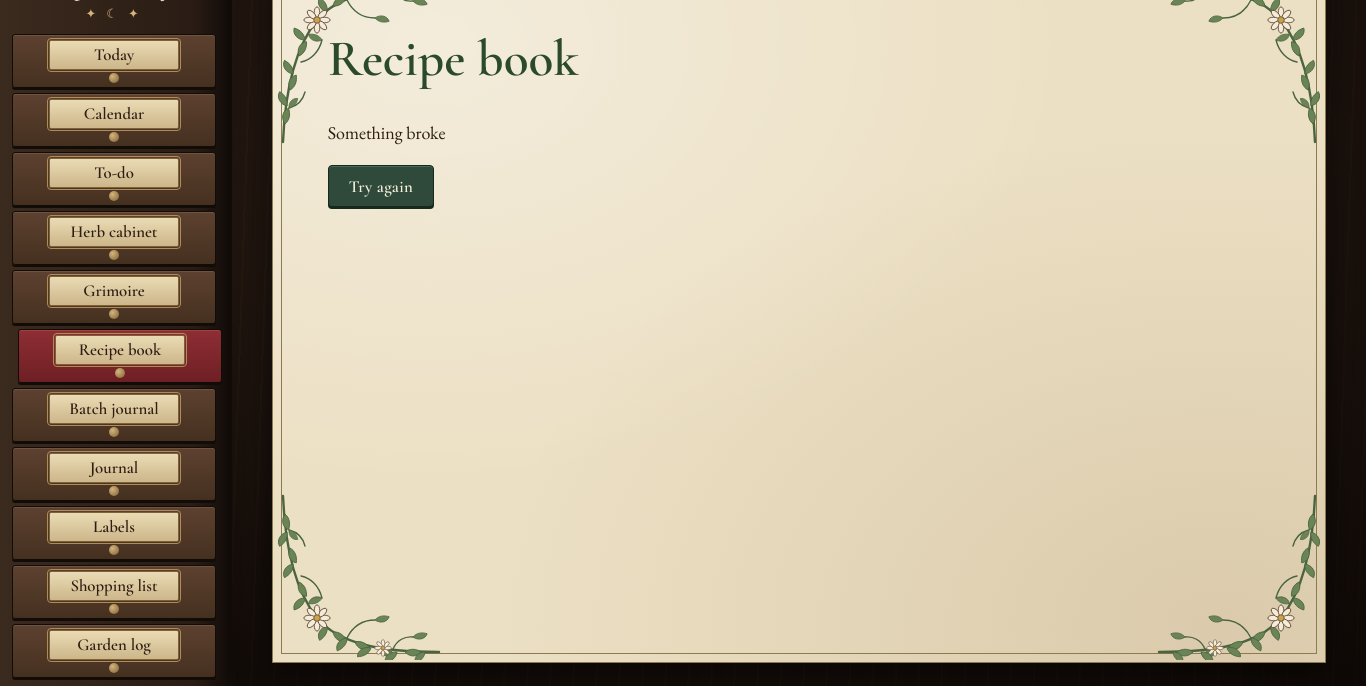
Test case: shows a load failure with Try again that refetches
Expected: the text "Something broke" is shown, 328,121 -> 446,144
Click the button "Try again": coordinates (381, 186) 328,165 -> 434,207
(page scrolled)
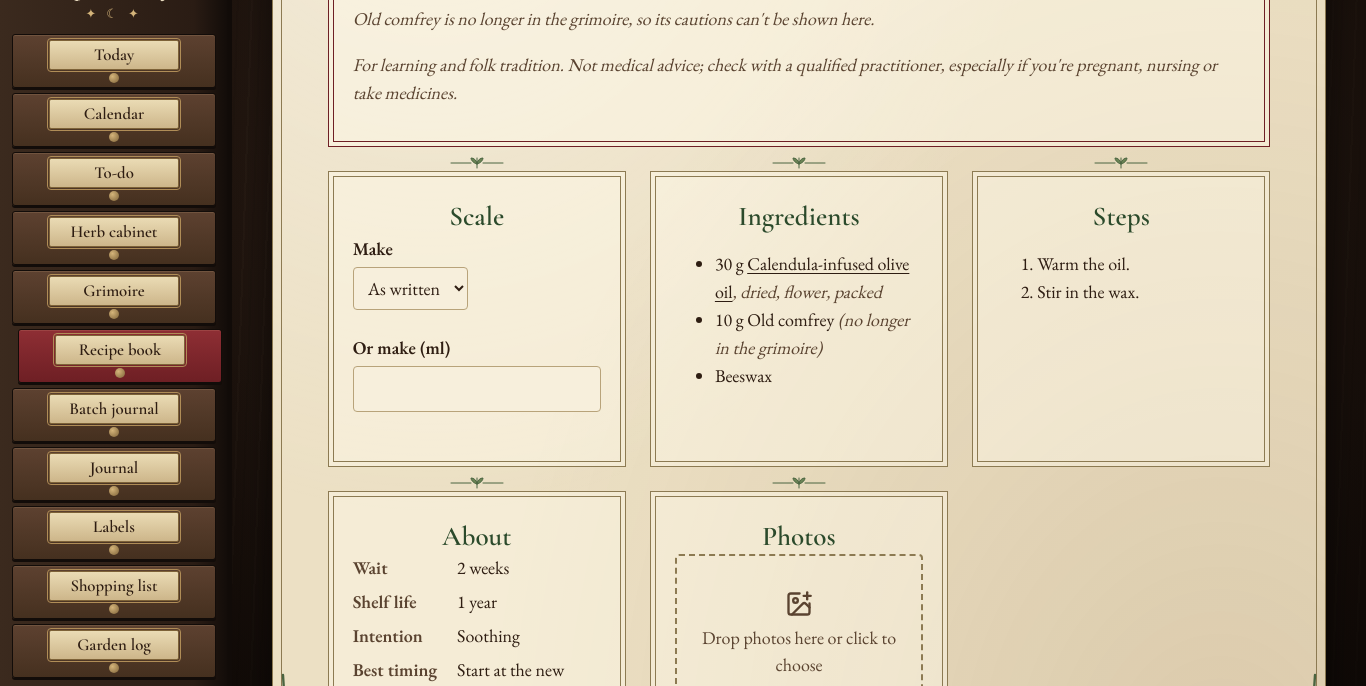
Expected: the element "Ingredients" is shown, 650,172 -> 948,467
